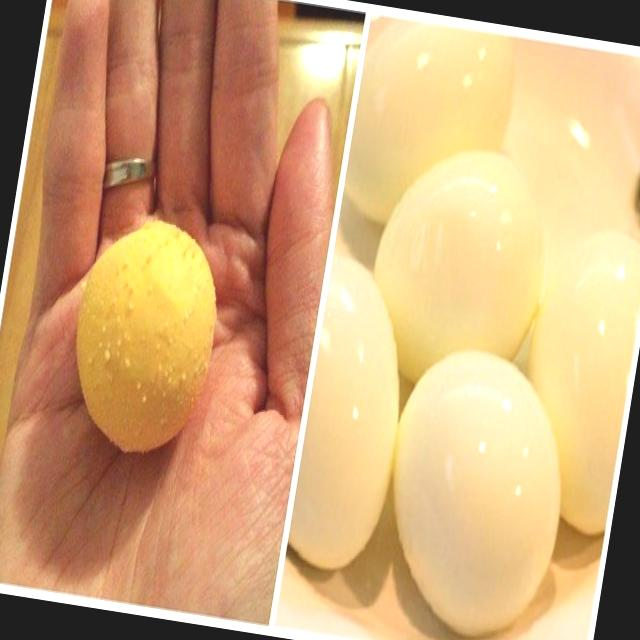trung luoc: (394, 351, 560, 633), (374, 151, 543, 381), (290, 235, 400, 569), (345, 19, 515, 224), (525, 230, 640, 533)
